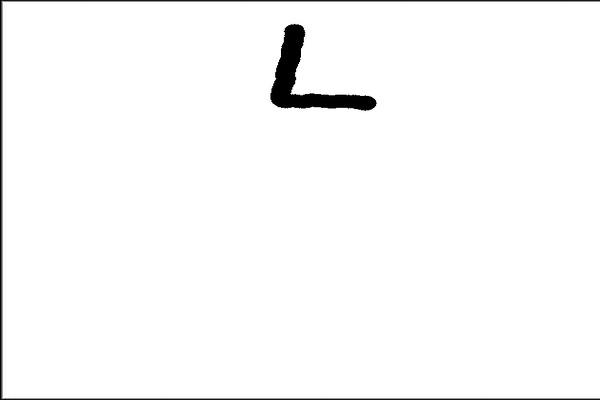L: (263, 18, 381, 117)
